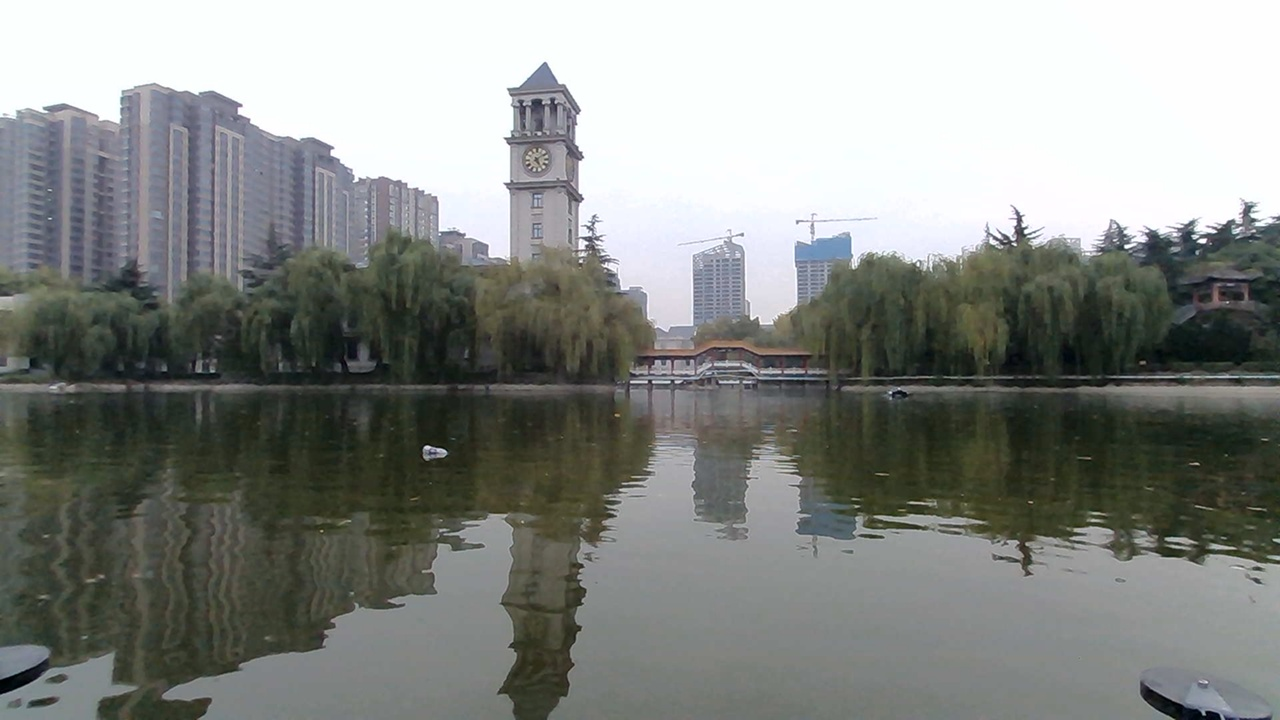bottle: (410, 430, 462, 468)
